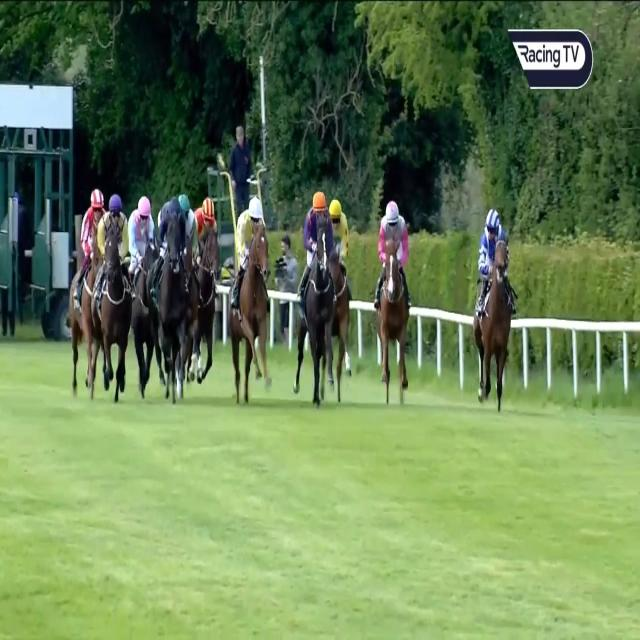horses-racing: (144, 191, 194, 400), (473, 195, 518, 406), (226, 184, 268, 407), (299, 183, 334, 407), (372, 191, 410, 395), (186, 198, 227, 380), (95, 198, 130, 392), (74, 184, 104, 362), (330, 192, 353, 397), (127, 188, 156, 334), (173, 180, 197, 270)
